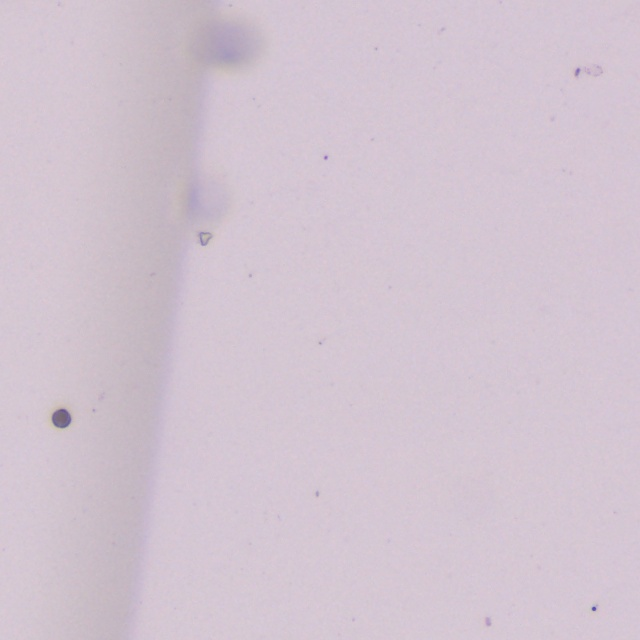non_viable: (52, 408, 70, 427)
